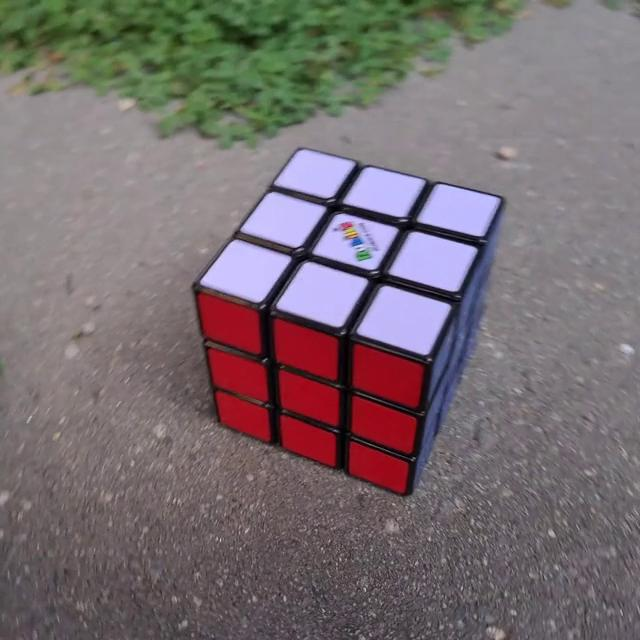rubix_cube: (190, 144, 508, 500)
